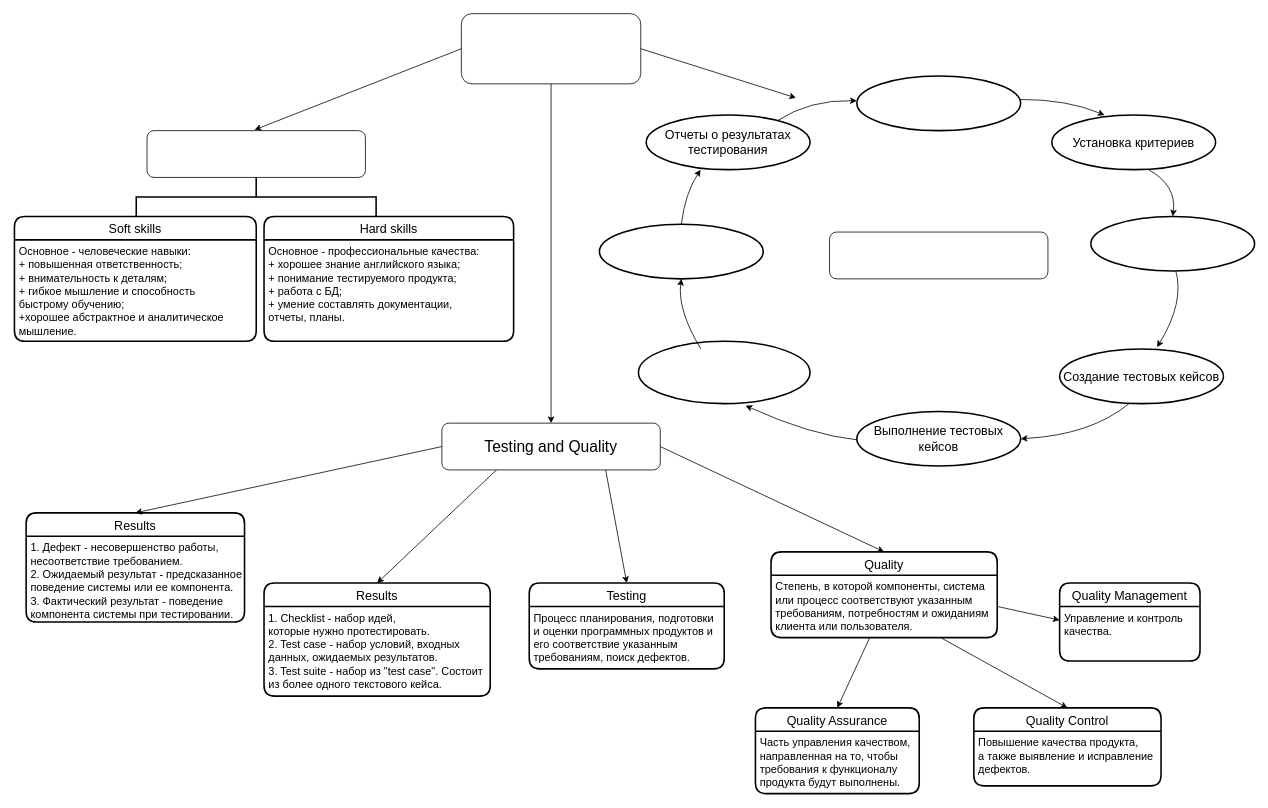
This 1268x808 diagram has some shape labels left out. Each missing label, with the centre of its shape:
Skills: pixel 255 153
Software testing life-cycle: pixel 938 255
Анализ результатов: pixel 681 251
Написание отчета об обнаружении дефекта: pixel 723 372
Планирование и анализ: pixel 938 103
Создание текстовой стратегии: pixel 1172 243
Тестирование: pixel 551 48
